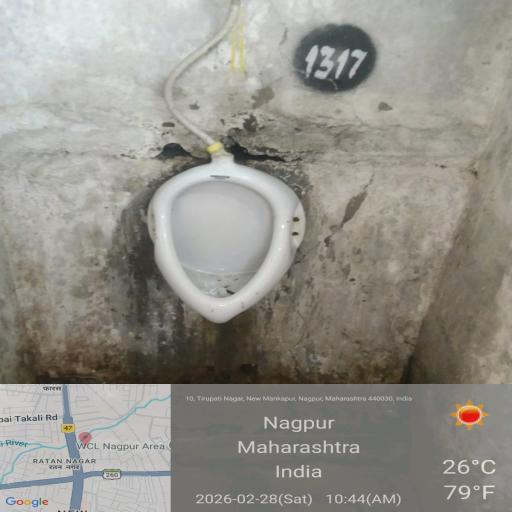clean_urinal: (97, 152, 363, 358)
dirty_floor: (22, 261, 512, 511), (0, 0, 512, 171)
